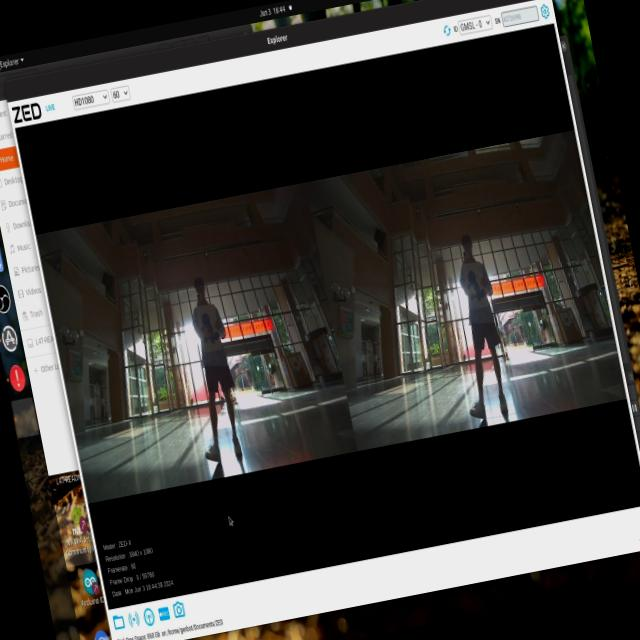blue: (195, 310, 224, 358), (462, 267, 490, 312)
